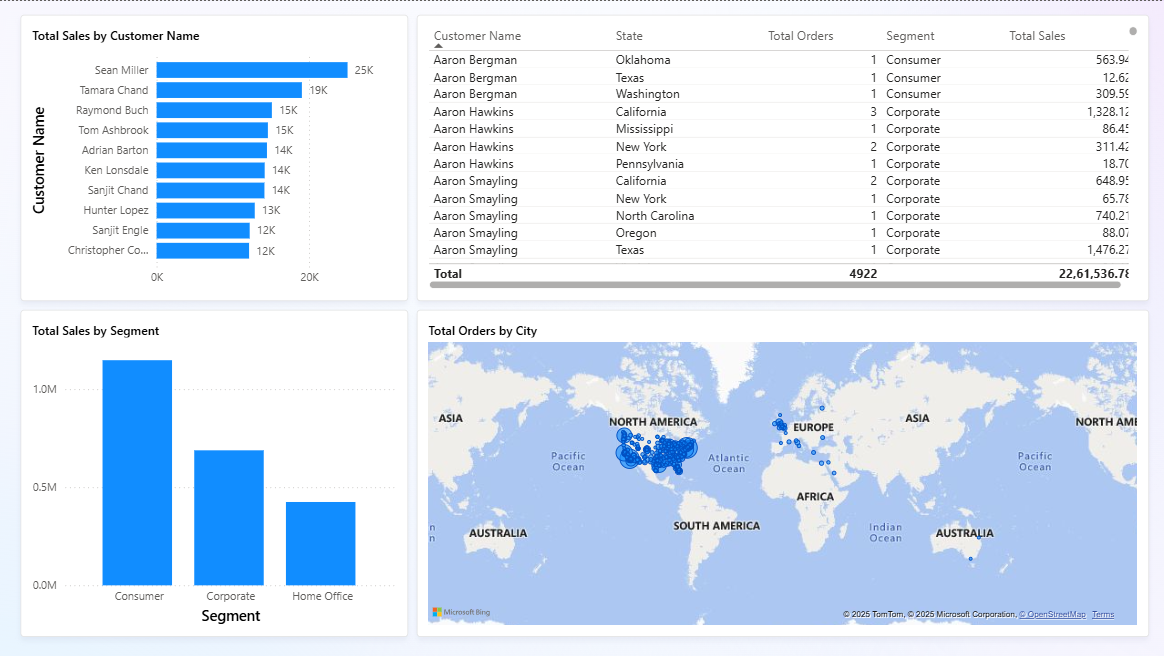

This screenshot's page, from the dashboard's own definition file:
{"tool":"powerbi","page":{"name":"Customer Analysis","canvas":[1280,720],"ordinal":2},"visuals":[{"type":"barChart","fields":{"Y":["cleaned_sales_data.Total Sales"],"Category":["cleaned_sales_data.Customer Name"]},"box":[24.7,15.1,425.4,314.2],"z":0},{"type":"clusteredColumnChart","fields":{"Category":["cleaned_sales_data.Segment"],"Y":["cleaned_sales_data.Total Sales"]},"box":[24.7,338.9,425.4,359.5],"z":1000},{"type":"tableEx","fields":{"Values":["cleaned_sales_data.Customer Name","cleaned_sales_data.State","cleaned_sales_data.Total Orders","cleaned_sales_data.Segment","cleaned_sales_data.Total Sales"]},"box":[459.7,15.1,804.1,314.2],"z":2000},{"type":"map","fields":{"Category":["cleaned_sales_data.City"],"Size":["cleaned_sales_data.Total Orders"]},"box":[459.7,338.9,804.1,359.5],"z":3000}]}

Visuals, with their boxes in screenshot pixels (x1, y1, x2, y2), scaled from the page's 1280x720 canvas onto the 1164x656 screenshot:
barChart - cleaned_sales_data.Total Sales x cleaned_sales_data.Customer Name: x1=22 y1=14 x2=409 y2=300
clusteredColumnChart - cleaned_sales_data.Segment x cleaned_sales_data.Total Sales: x1=22 y1=309 x2=409 y2=636
tableEx - cleaned_sales_data.Customer Name x cleaned_sales_data.State: x1=418 y1=14 x2=1149 y2=300
map - cleaned_sales_data.City x cleaned_sales_data.Total Orders: x1=418 y1=309 x2=1149 y2=636
